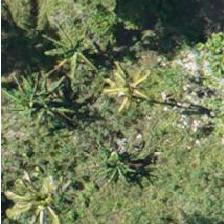coconut_tree: (77, 44, 167, 134), (0, 166, 86, 223)
